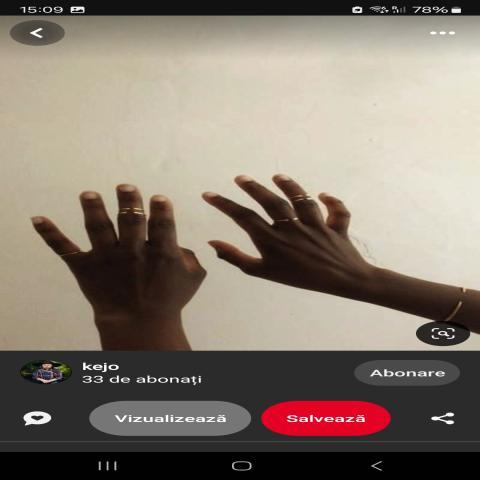Hands: (193, 133, 450, 314), (12, 148, 222, 337)
